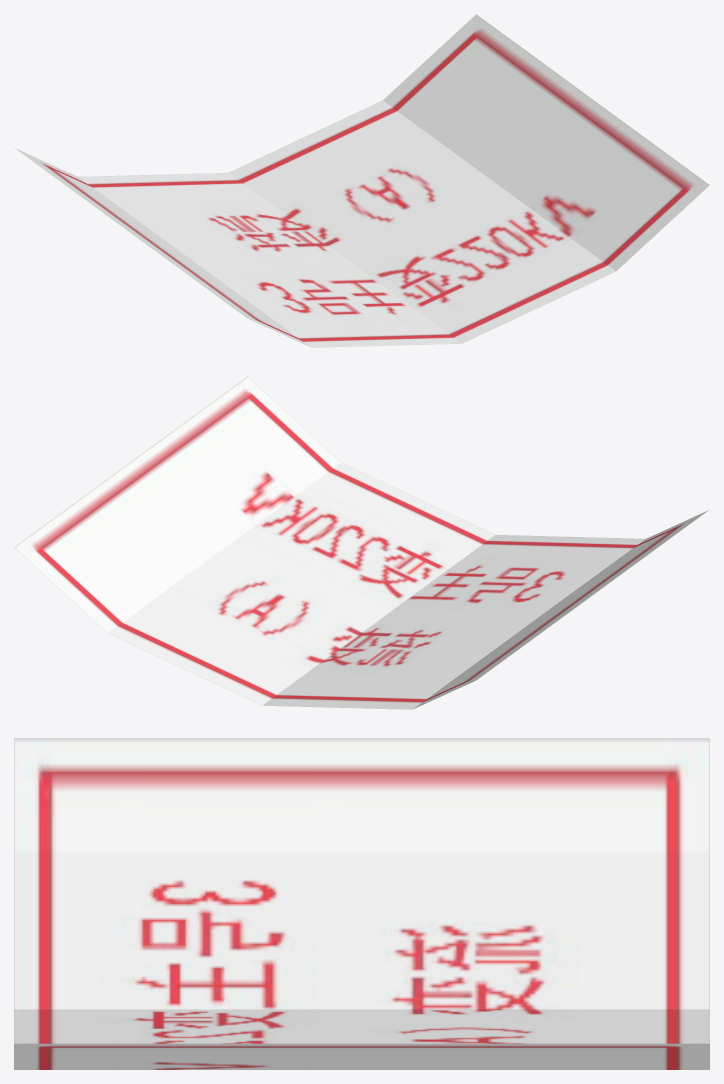
The model's file is mp-0446-geode.glb.
3 views of the same model, one above another, from view 1: azimuth 30°, elevation 25°; view 2: azimuth 150°, elevation 25°; view 3: azimuth 270°, elevation 25° (orthographic). The views are drawn at different scales.
Parts seen in each view (by area): view 1: Node; view 2: Node; view 3: Node.
Part boxes in pixels (bbox=[...]): Node: bbox=[15, 14, 709, 347]; Node: bbox=[14, 376, 708, 709]; Node: bbox=[14, 738, 709, 1069].
Bounding box in the file's own units: 0.2429 × 0.0493 × 0.2125.
Materials: 1 (1 with a texture image).
